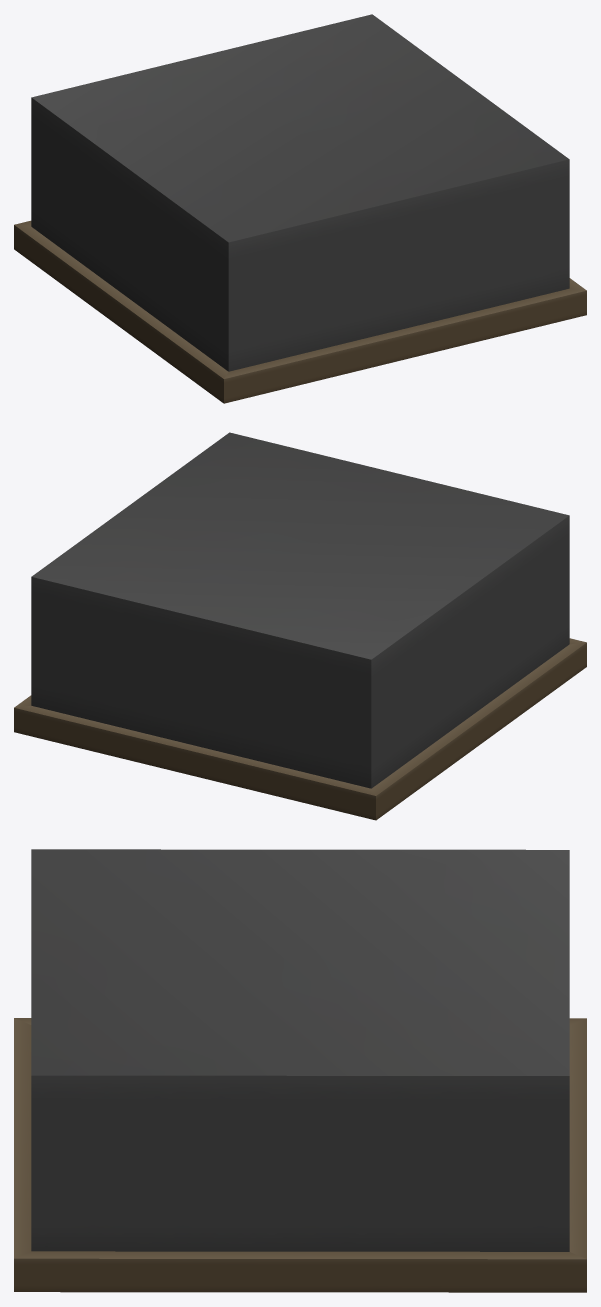
3 views of the same model, one above another, from view 1: azimuth 30°, elevation 25°; view 2: azimuth 150°, elevation 25°; view 3: azimuth 270°, elevation 25° (orthographic). The views are drawn at different scales.
Parts seen in each view (by area): view 1: Base_2X2; view 2: Base_2X2; view 3: Base_2X2.
Boxes of the visible parts, <box> form: Base_2X2: <box>14,14,586,403</box>; Base_2X2: <box>14,432,586,820</box>; Base_2X2: <box>14,849,586,1292</box>.
Size of the model in its own units: 185 by 74.79 by 186.
